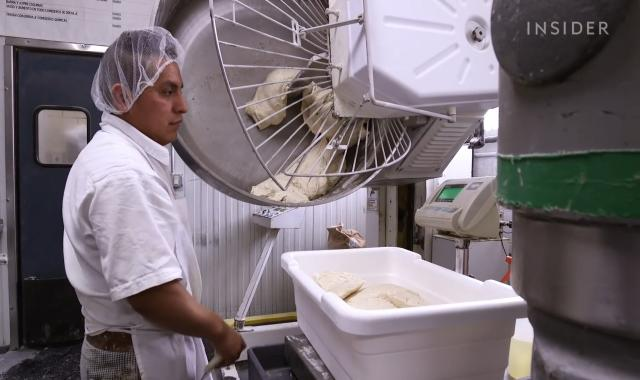hairnet: (88, 27, 188, 117)
